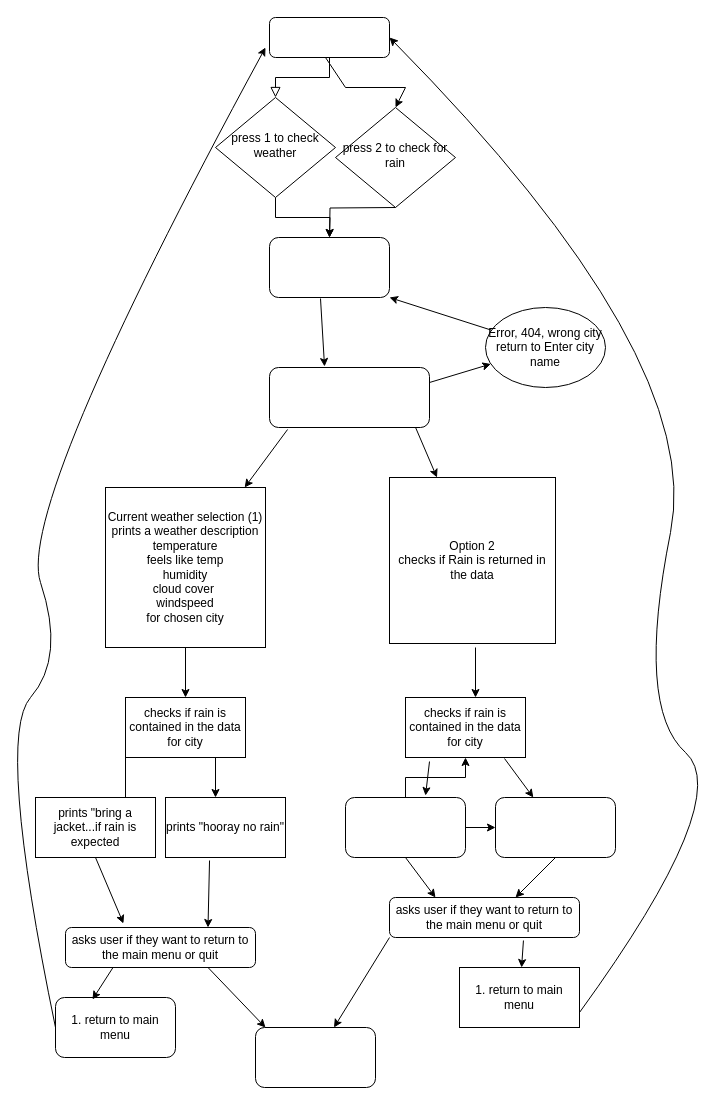
Some shapes in this 716 by 1105 pixel diagram are drawn without their labels. The centre of each missing label's shape, as x and y in pixels:
"Enter City Name:" belongs at (x=329, y=267).
"Is city valid?" belongs at (x=349, y=397).
"prints: hooray no rain" belongs at (x=555, y=827).
"prints: its a day for the ducks, its going to rain" belongs at (x=405, y=827).
"Program start" belongs at (x=329, y=37).
"Quit and end program. Thank user!" belongs at (x=315, y=1057).
